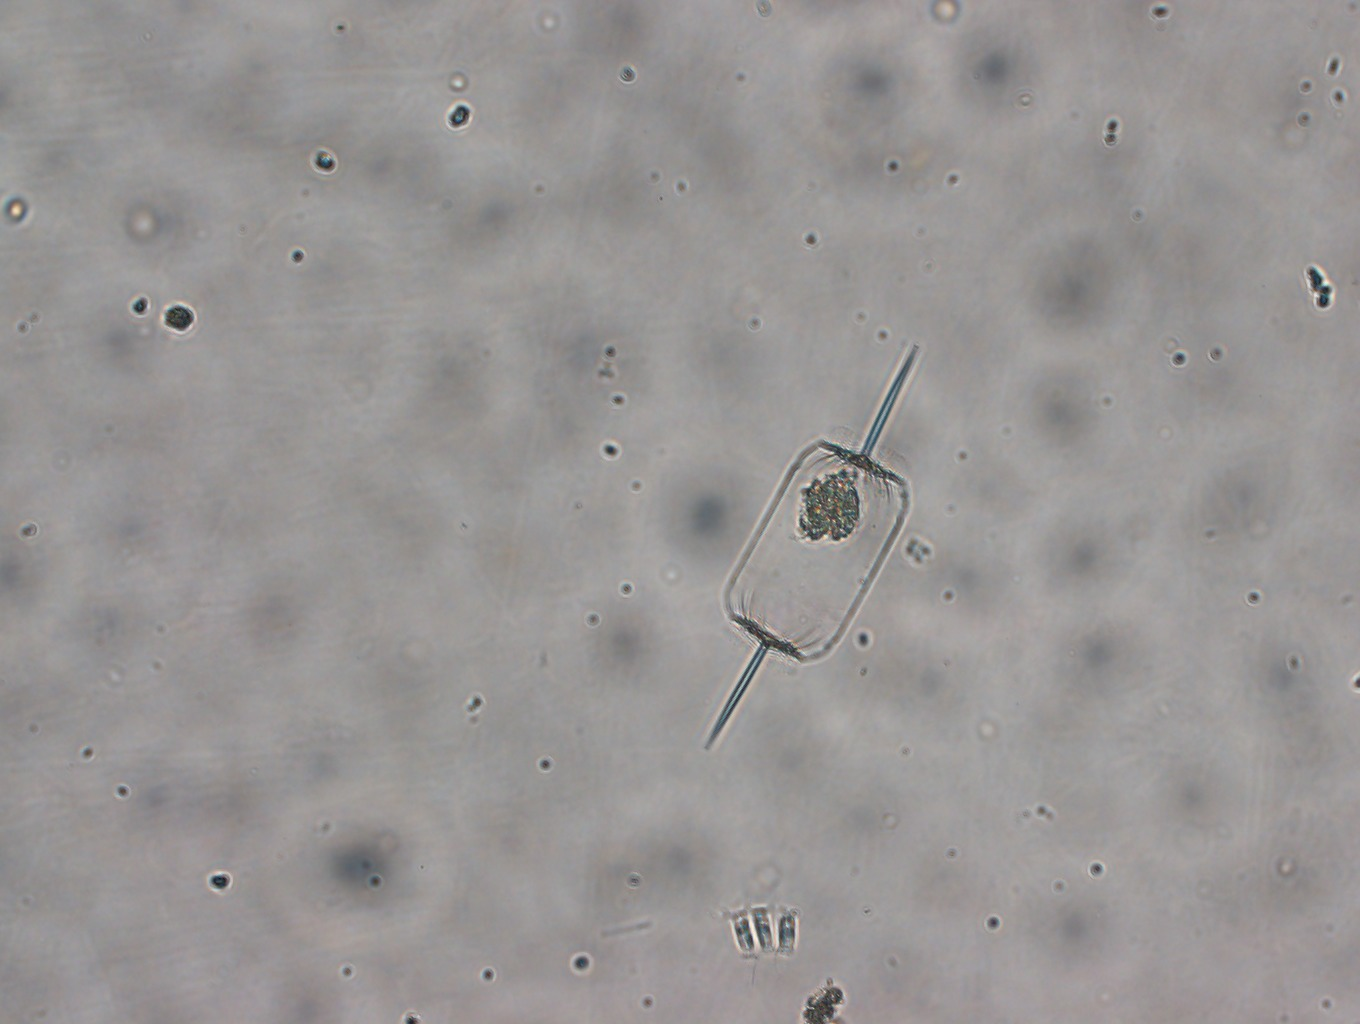ditylum: (704, 339, 924, 757)
